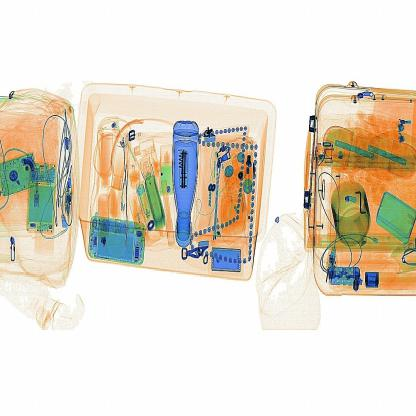scissors: (173, 138, 199, 205)
